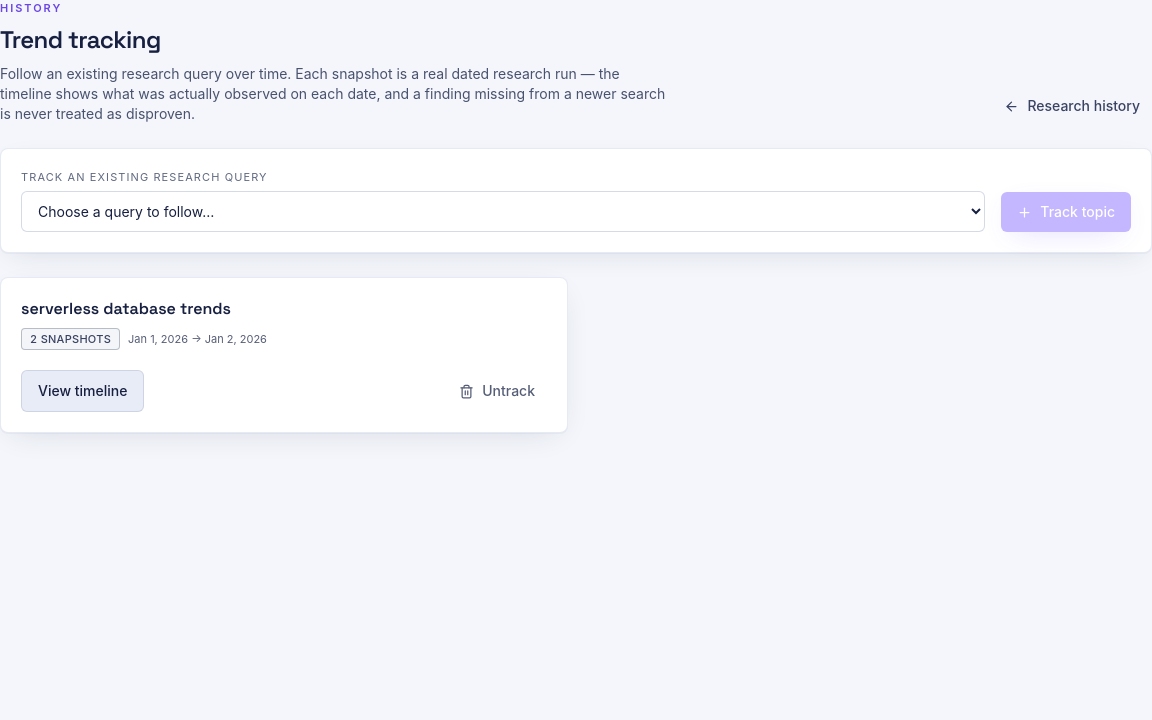
Test: Trends page — topic list › tracks a topic and opens its timeline
Check: the text "serverless database trends" is shown, box [21,298,231,319]
Select "ai in health care — 5 runs" in the dropdown labelled "Track an existing research query". click: {"x": 503, "y": 212}
box: [21,191,985,232]
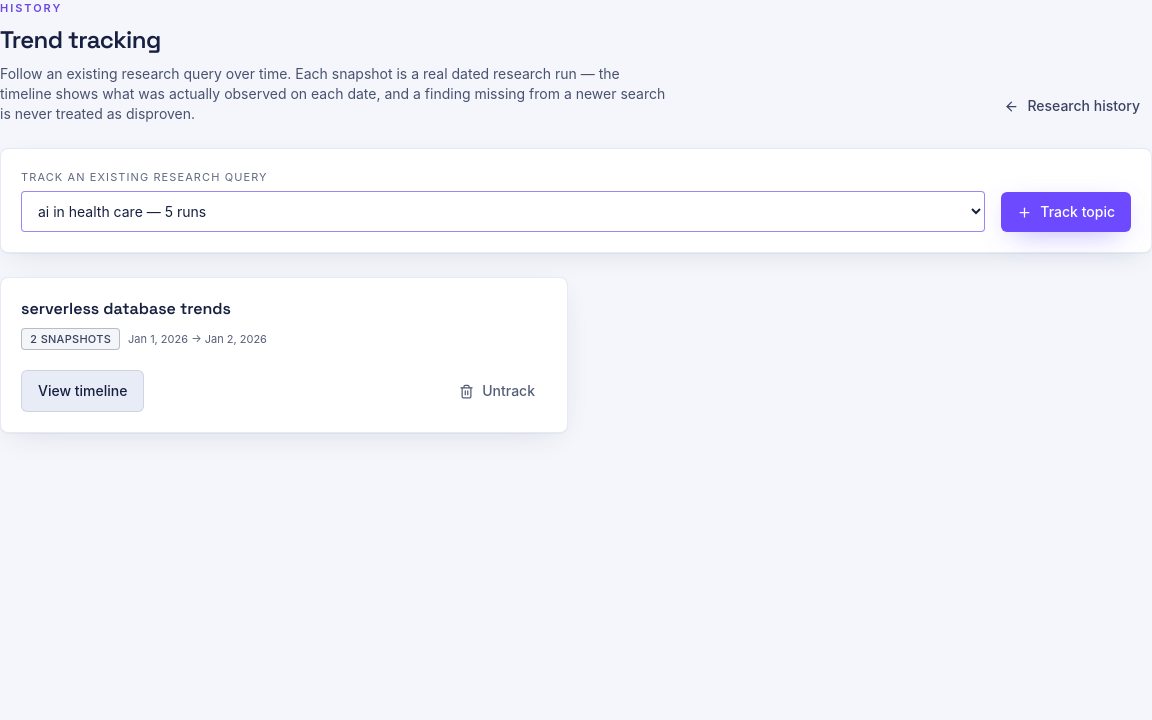
Click the button "Track topic". click: {"x": 1066, "y": 212}
box: [1001,192,1131,232]
(page scrolled)
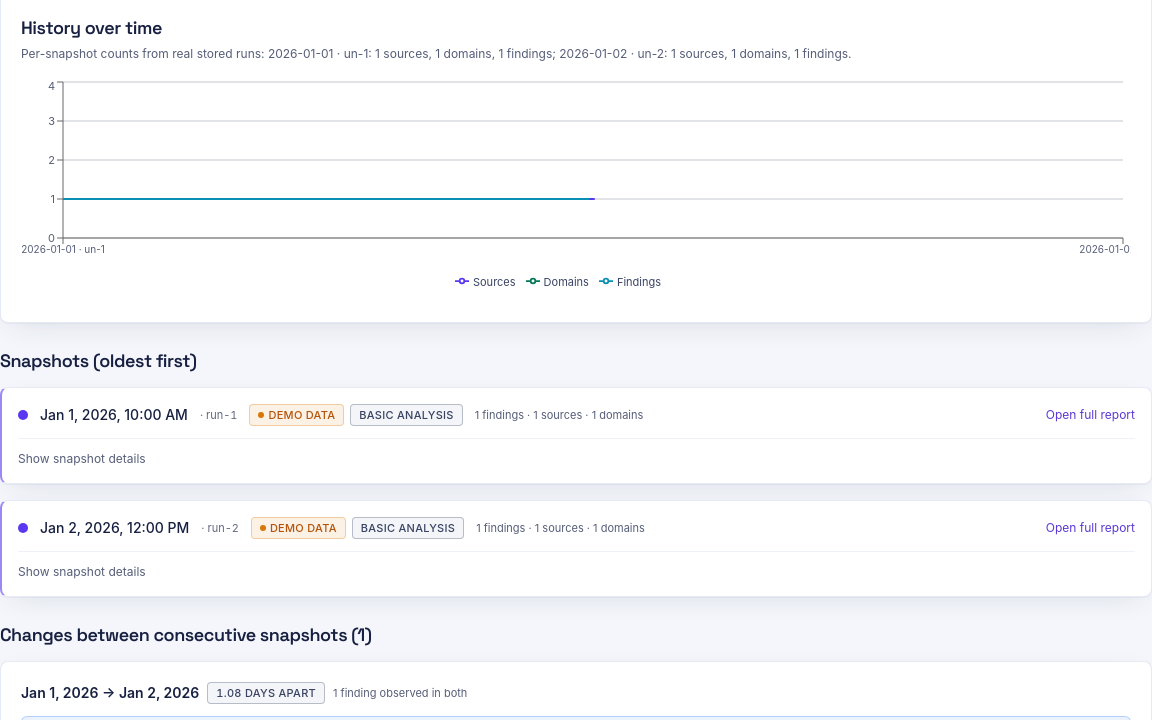
Check: the heading "Snapshots (oldest first)" is shown, box [0,348,196,372]
